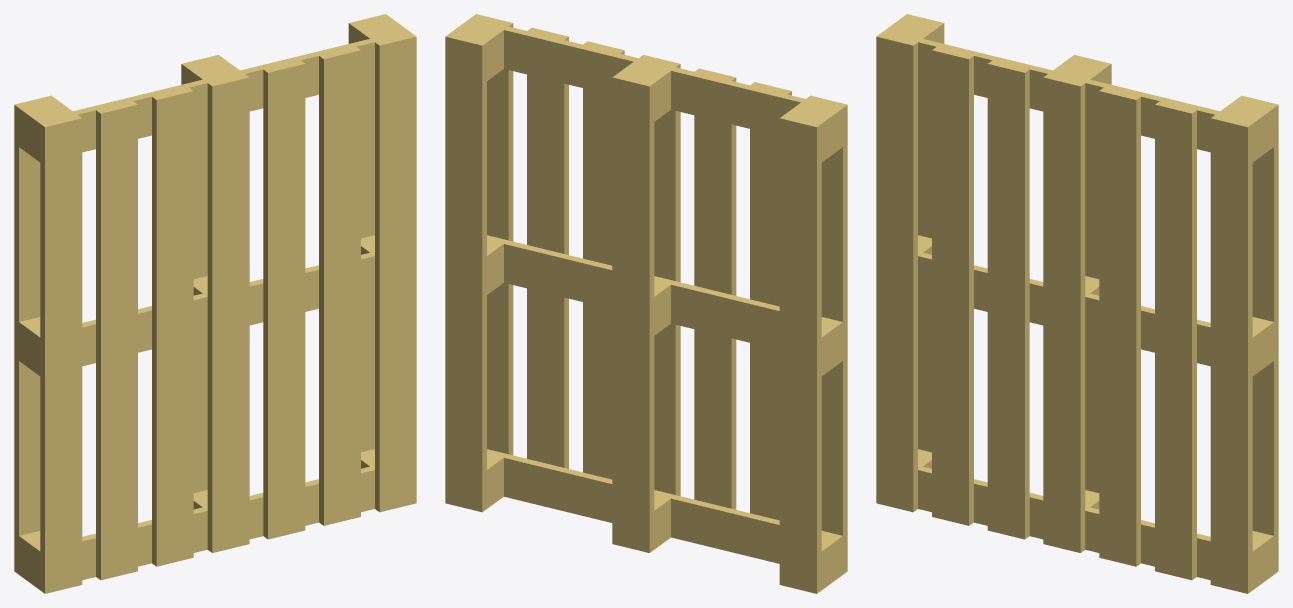
The model's file is pallet1000x1200.obj.
3 renders of one model, left to right at view 1: azimuth 30°, elevation 25°; view 2: azimuth 150°, elevation 25°; view 3: azimuth 330°, elevation 25°, orthographic.
Visible parts, largest first — view 1: mesh22, mesh30, mesh46, mesh66, mesh14, mesh3, mesh38, mesh47, mesh63, mesh49, mesh48, mesh23 (+29 smaller); view 2: mesh50, mesh58, mesh65, mesh47, mesh28, mesh4, mesh6, mesh29, mesh63, mesh12, mesh13, mesh36 (+21 smaller); view 3: mesh14, mesh22, mesh46, mesh66, mesh30, mesh3, mesh38, mesh75, mesh63, mesh69, mesh72, mesh19 (+29 smaller).
Boxes of the visible parts, x1,y1,x2,y2 form: mesh22: (212,77,249,552); mesh30: (156,91,193,566); mesh46: (45,118,82,593); mesh66: (379,36,416,512); mesh14: (268,64,305,539); mesh3: (324,50,360,525); mesh38: (101,104,137,580); mesh47: (14,105,44,593); mesh63: (14,14,416,127); mesh49: (19,147,40,321); mesh48: (19,361,40,535); mesh23: (207,83,212,552); mesh50: (779,118,816,593); mesh58: (612,77,649,552); mesh65: (445,36,482,512); mesh47: (817,105,847,593); mesh28: (694,115,731,294); mesh4: (527,74,564,253); mesh6: (527,288,564,467); mesh29: (694,329,731,508); mesh63: (445,14,847,127); mesh12: (583,88,612,265); mesh13: (583,302,612,479); mesh36: (750,129,779,306); mesh14: (1099,91,1136,566); mesh22: (1043,77,1080,552); mesh46: (876,36,913,512); mesh66: (1210,118,1247,593); mesh30: (987,64,1024,539); mesh3: (1155,104,1191,580); mesh38: (932,50,968,525); mesh75: (1248,105,1278,593); mesh63: (876,14,1278,127); mesh69: (1252,147,1273,321); mesh72: (1252,361,1273,535); mesh19: (1080,83,1085,552).
Size of the model in its own units: 1 by 1.2 by 0.144.
